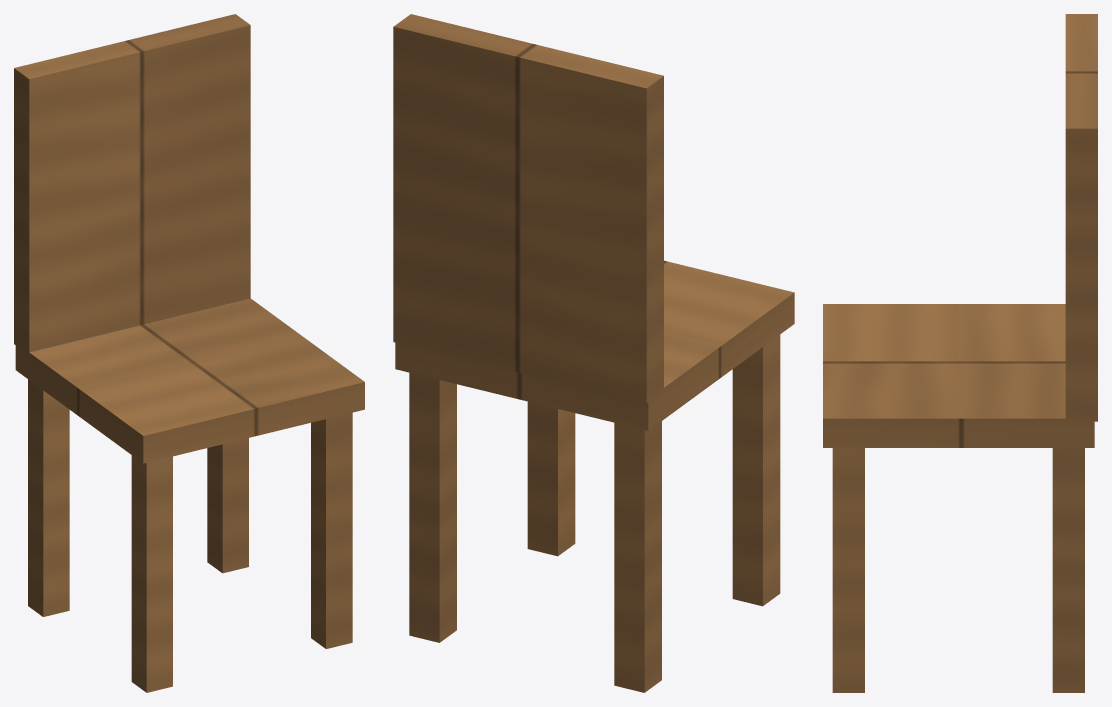
File: krzeslo.glb
3 views of the same model, side by side, from view 1: azimuth 30°, elevation 25°; view 2: azimuth 150°, elevation 25°; view 3: azimuth 270°, elevation 25° (orthographic). The views are drawn at different scales.
Visible parts, largest first — view 1: krzeslo; view 2: krzeslo; view 3: krzeslo.
Part boxes in pixels (x1,y1,x2,y2): krzeslo: (14,14,364,692); krzeslo: (393,14,794,692); krzeslo: (823,14,1097,692).
Size of the model in its own units: 0.42 by 0.97 by 0.425.
1 material, 1 textured.
